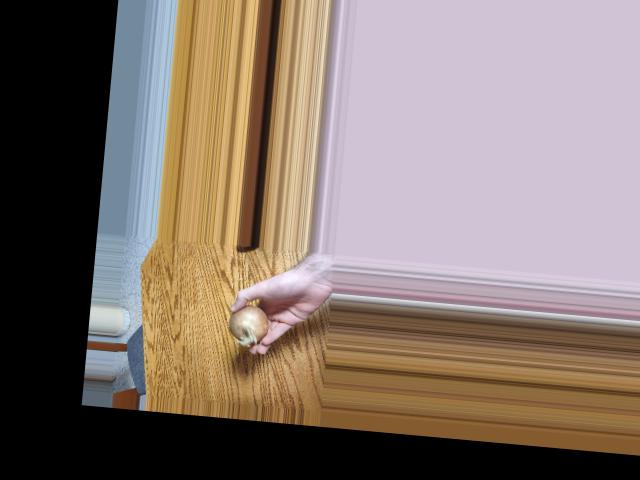onion: (228, 303, 273, 343)
